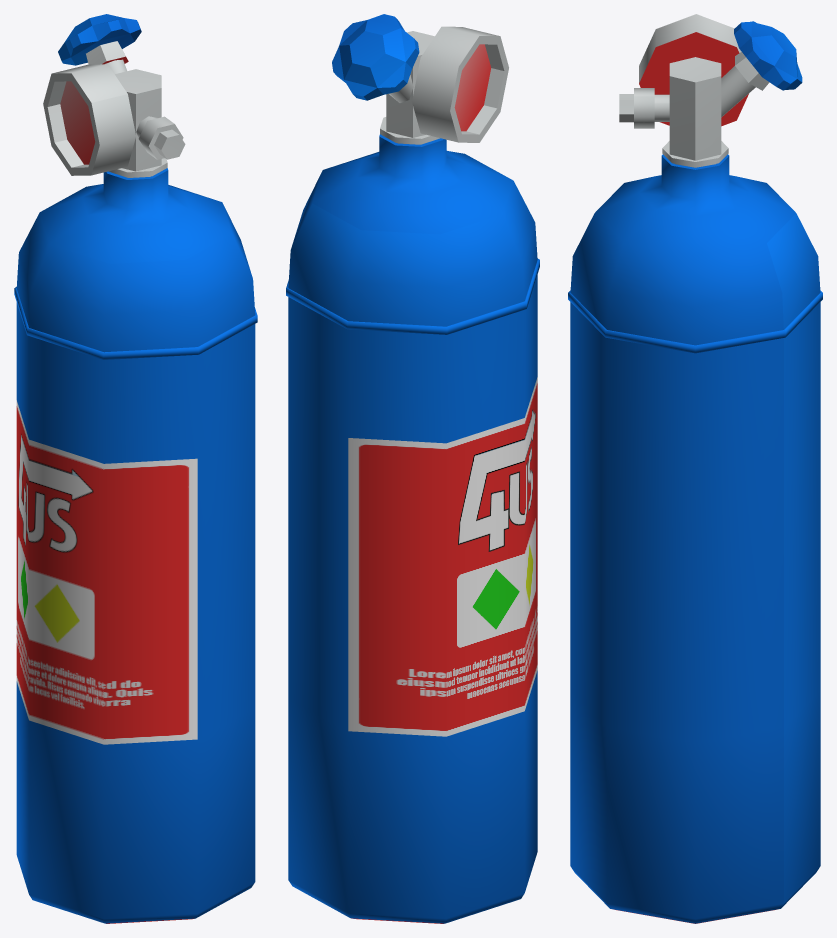
File: nos.fbx
3 renders of one model, left to right at view 1: azimuth 30°, elevation 25°; view 2: azimuth 150°, elevation 25°; view 3: azimuth 270°, elevation 25°, orthographic. The views are drawn at different scales.
Parts seen in each view (by area): view 1: Cylinder003; view 2: Cylinder003; view 3: Cylinder003.
Part boxes in pixels (<box>): Cylinder003: <box>14,14,257,923</box>; Cylinder003: <box>286,14,539,923</box>; Cylinder003: <box>568,14,822,923</box>.
Size of the model in its own units: 20.37 by 75.11 by 20.37.
2 materials, 2 textured.
